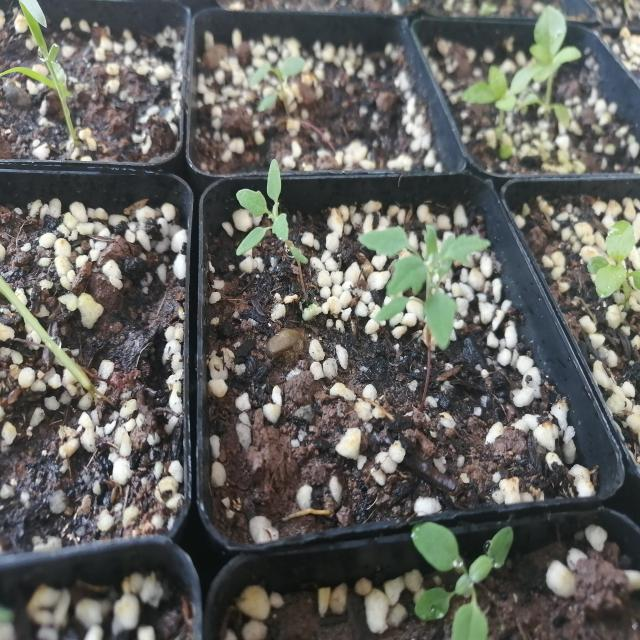goosefoots: (366, 200, 493, 378), (230, 167, 326, 280)
